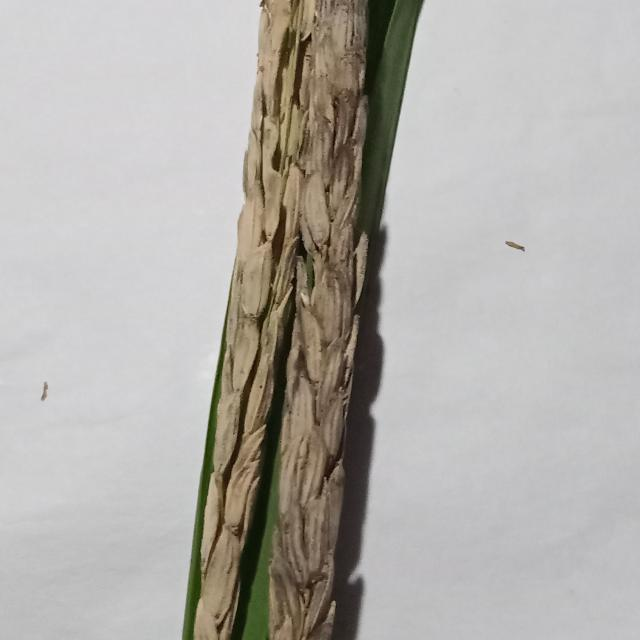Neck_Blast: (186, 1, 321, 638), (254, 0, 370, 640)
